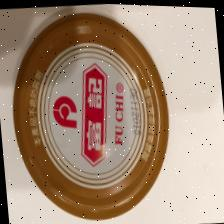metal: (6, 0, 180, 224)
